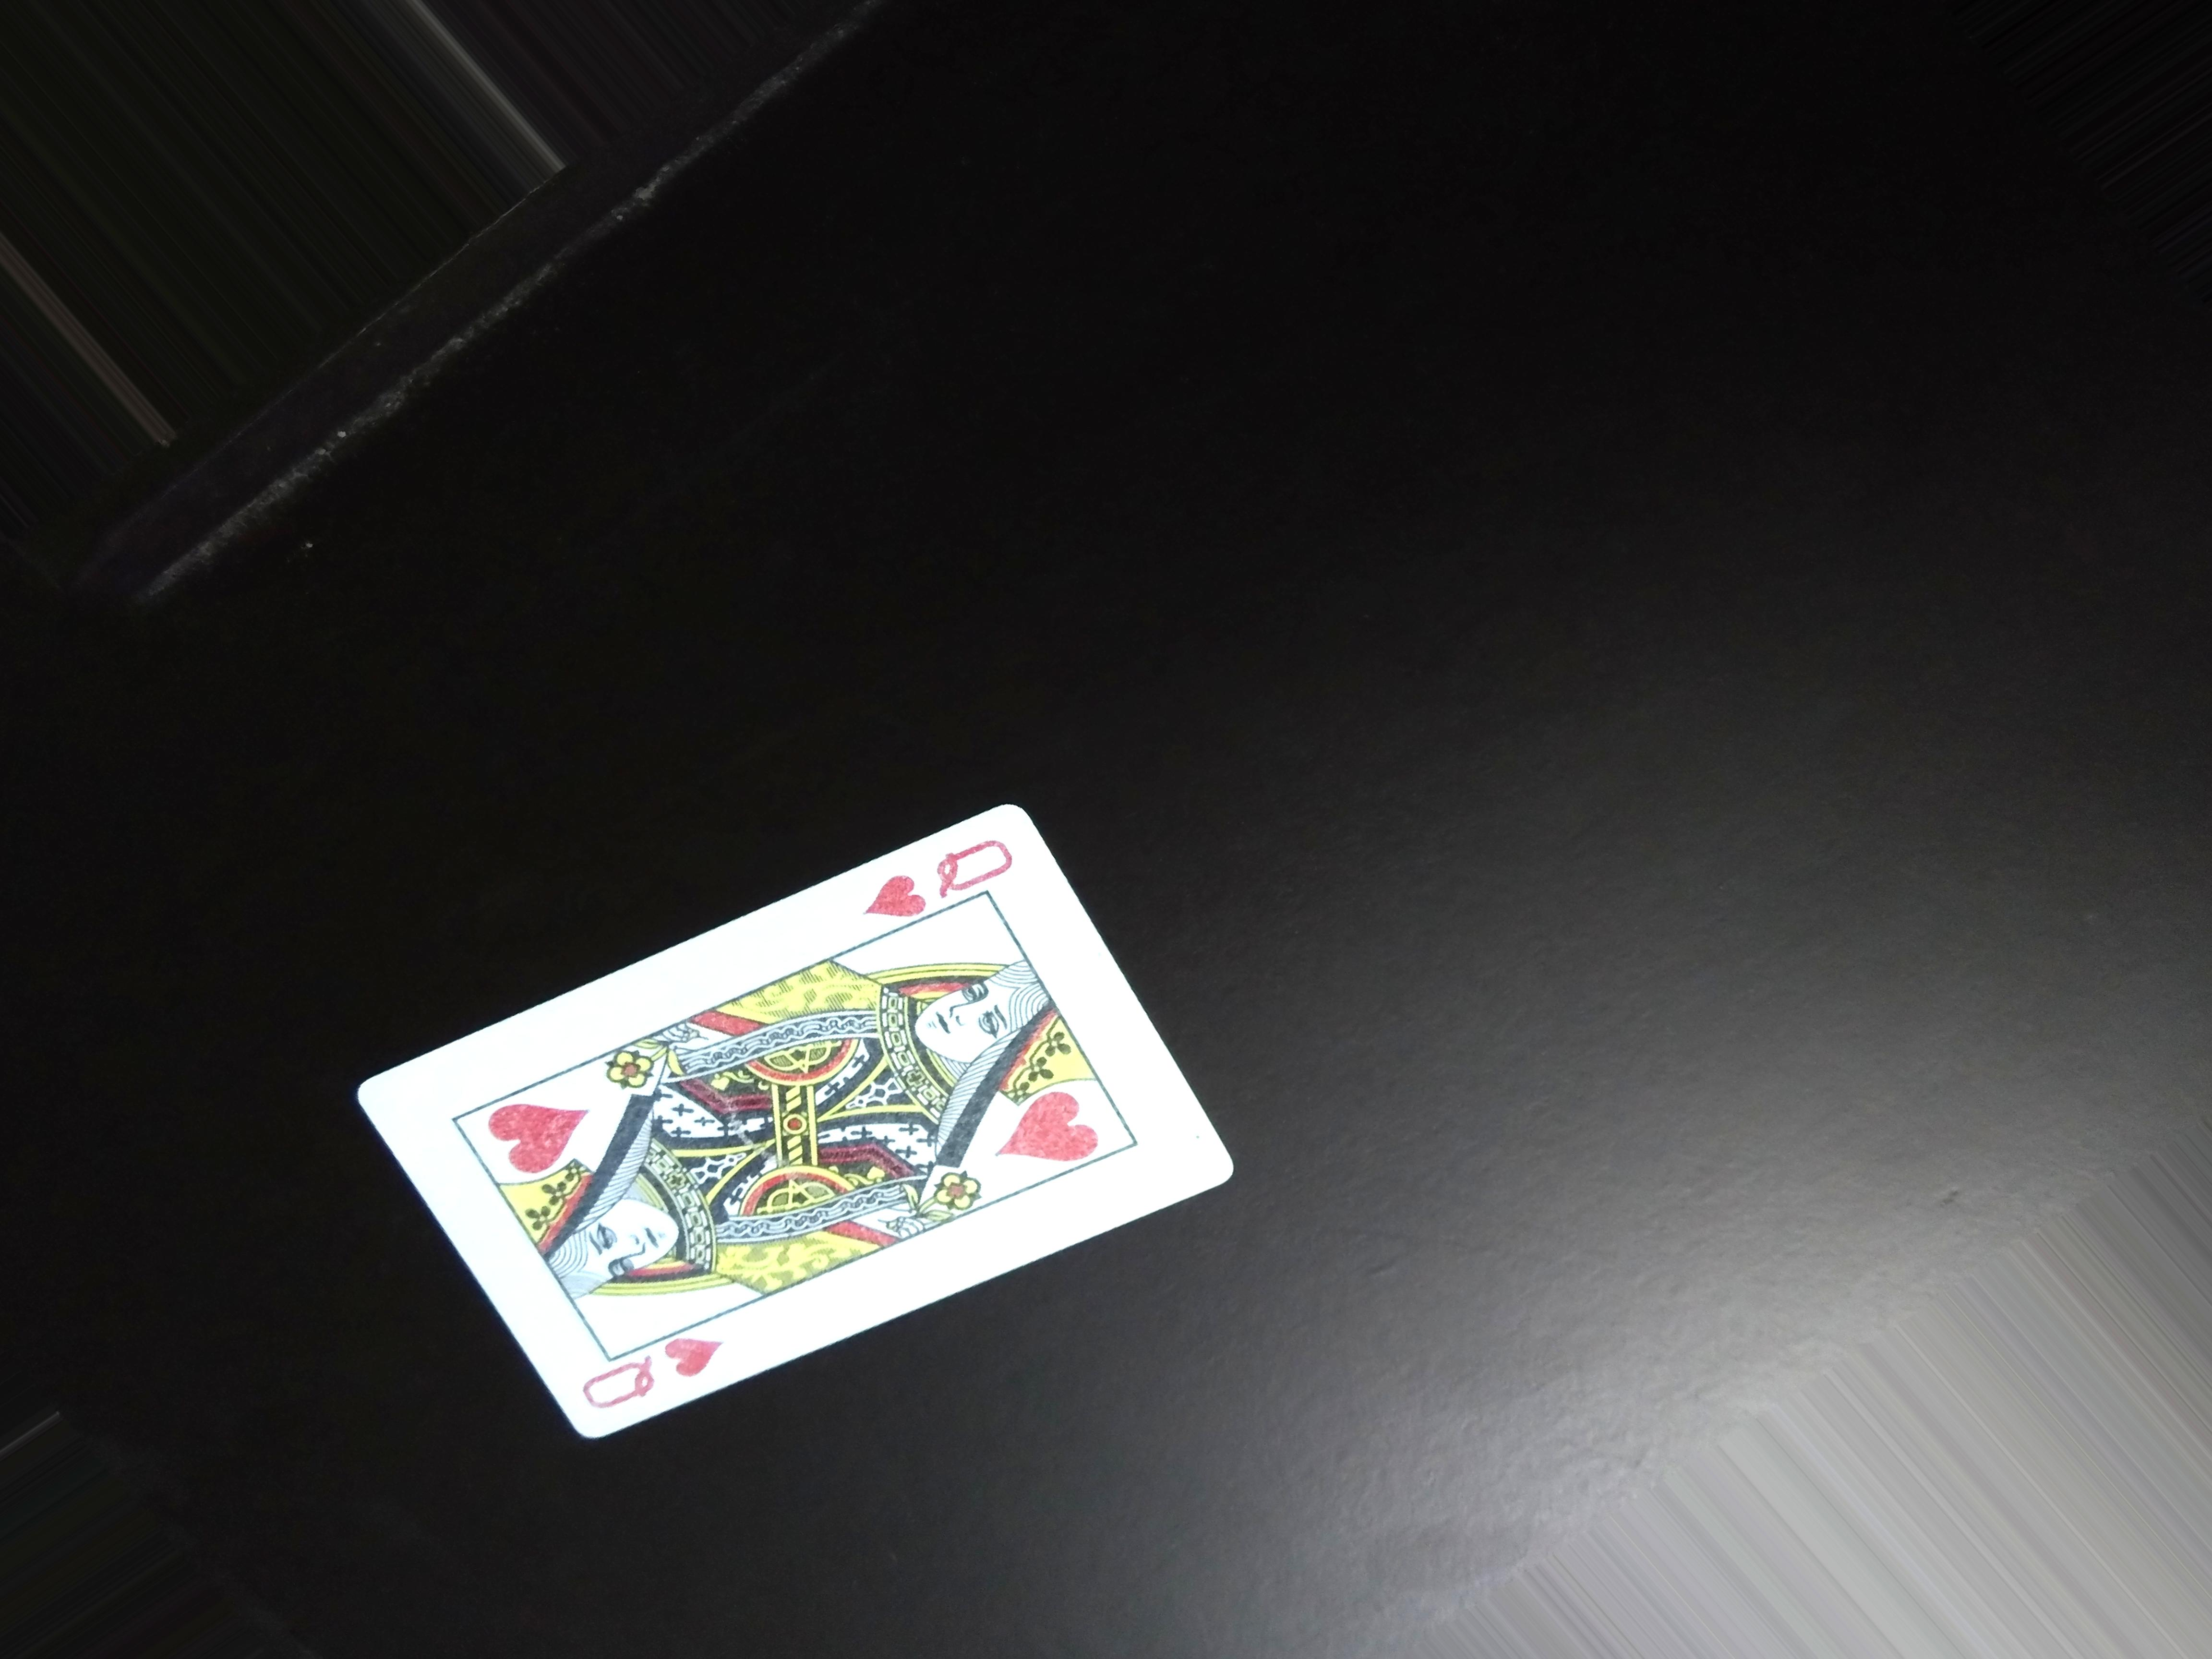QH: (852, 817, 1024, 924)
